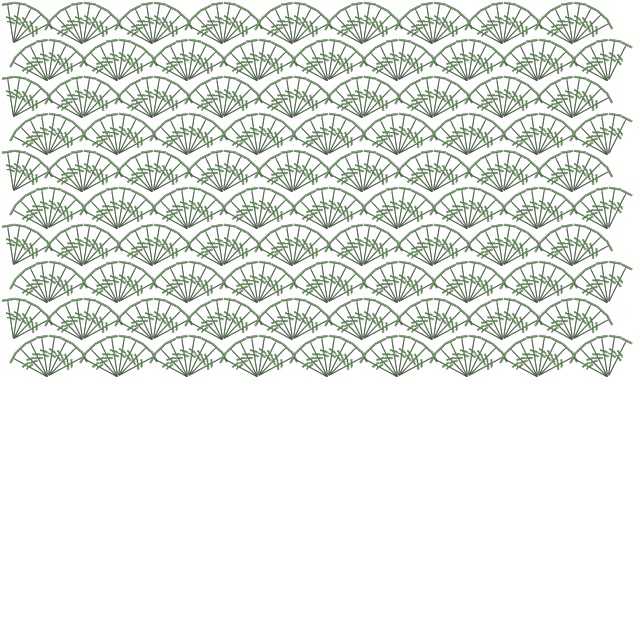fan: (8, 8, 49, 50), (49, 8, 90, 50), (78, 8, 119, 50), (119, 8, 160, 50), (148, 8, 189, 50), (189, 8, 230, 50), (218, 8, 259, 50), (259, 8, 300, 50), (288, 8, 329, 50), (329, 8, 370, 50), (358, 8, 399, 50), (399, 8, 440, 50), (428, 8, 469, 50), (469, 8, 510, 50), (498, 8, 539, 50), (539, 8, 580, 50), (568, 8, 609, 50), (14, 45, 55, 87), (43, 45, 84, 87), (84, 45, 125, 87), (113, 45, 154, 87), (154, 45, 195, 87), (183, 45, 224, 87), (224, 45, 265, 87), (253, 45, 294, 87), (294, 45, 335, 87), (323, 45, 364, 87), (364, 45, 405, 87), (393, 45, 434, 87), (434, 45, 475, 87), (463, 45, 504, 87), (504, 45, 545, 87), (533, 45, 574, 87), (574, 45, 615, 87), (8, 82, 49, 124), (49, 82, 90, 124), (78, 82, 119, 124), (119, 82, 160, 124), (148, 82, 189, 124), (189, 82, 230, 124), (218, 82, 259, 124), (259, 82, 300, 124), (288, 82, 329, 124), (329, 82, 370, 124), (358, 82, 399, 124), (399, 82, 440, 124), (428, 82, 469, 124), (469, 82, 510, 124), (498, 82, 539, 124), (539, 82, 580, 124), (568, 82, 609, 124), (14, 119, 55, 161), (43, 119, 84, 161), (84, 119, 125, 161), (113, 119, 154, 161), (154, 119, 195, 161), (183, 119, 224, 161), (224, 119, 265, 161), (253, 119, 294, 161), (294, 119, 335, 161), (323, 119, 364, 161), (364, 119, 405, 161), (393, 119, 434, 161), (434, 119, 475, 161), (463, 119, 504, 161), (504, 119, 545, 161), (533, 119, 574, 161), (574, 119, 615, 161), (8, 156, 49, 198), (49, 156, 90, 198), (78, 156, 119, 198), (119, 156, 160, 198), (148, 156, 189, 198), (189, 156, 230, 198), (218, 156, 259, 198), (259, 156, 300, 198), (288, 156, 329, 198), (329, 156, 370, 198), (358, 156, 399, 198), (399, 156, 440, 198), (428, 156, 469, 198), (469, 156, 510, 198), (498, 156, 539, 198), (539, 156, 580, 198), (568, 156, 609, 198), (14, 193, 55, 235), (43, 193, 84, 235), (84, 193, 125, 235), (113, 193, 154, 235), (154, 193, 195, 235), (183, 193, 224, 235), (224, 193, 265, 235), (253, 193, 294, 235), (294, 193, 335, 235), (323, 193, 364, 235), (364, 193, 405, 235), (393, 193, 434, 235), (434, 193, 475, 235), (463, 193, 504, 235), (504, 193, 545, 235), (533, 193, 574, 235), (574, 193, 615, 235), (8, 230, 49, 272), (49, 230, 90, 272), (78, 230, 119, 272), (119, 230, 160, 272), (148, 230, 189, 272), (189, 230, 230, 272), (218, 230, 259, 272), (259, 230, 300, 272), (288, 230, 329, 272), (329, 230, 370, 272), (358, 230, 399, 272), (399, 230, 440, 272), (428, 230, 469, 272), (469, 230, 510, 272), (498, 230, 539, 272), (539, 230, 580, 272), (568, 230, 609, 272), (14, 267, 55, 309), (43, 267, 84, 309), (84, 267, 125, 309), (113, 267, 154, 309), (154, 267, 195, 309), (183, 267, 224, 309), (224, 267, 265, 309), (253, 267, 294, 309), (294, 267, 335, 309), (323, 267, 364, 309), (364, 267, 405, 309), (393, 267, 434, 309), (434, 267, 475, 309), (463, 267, 504, 309), (504, 267, 545, 309), (533, 267, 574, 309), (574, 267, 615, 309), (8, 304, 49, 346), (49, 304, 90, 346), (78, 304, 119, 346), (119, 304, 160, 346), (148, 304, 189, 346), (189, 304, 230, 346), (218, 304, 259, 346), (259, 304, 300, 346), (288, 304, 329, 346), (329, 304, 370, 346), (358, 304, 399, 346), (399, 304, 440, 346), (428, 304, 469, 346), (469, 304, 510, 346), (498, 304, 539, 346), (539, 304, 580, 346), (568, 304, 609, 346), (14, 341, 55, 383), (43, 341, 84, 383), (84, 341, 125, 383), (113, 341, 154, 383), (154, 341, 195, 383), (183, 341, 224, 383), (224, 341, 265, 383), (253, 341, 294, 383), (294, 341, 335, 383), (323, 341, 364, 383), (364, 341, 405, 383), (393, 341, 434, 383), (434, 341, 475, 383), (463, 341, 504, 383), (504, 341, 545, 383), (533, 341, 574, 383), (574, 341, 615, 383), (10, 17, 55, 51), (43, 17, 88, 51), (80, 17, 125, 51), (113, 17, 158, 51), (150, 17, 195, 51), (183, 17, 228, 51), (220, 17, 265, 51), (253, 17, 298, 51), (290, 17, 335, 51), (323, 17, 368, 51), (360, 17, 405, 51), (393, 17, 438, 51), (430, 17, 475, 51), (463, 17, 508, 51), (500, 17, 545, 51), (533, 17, 578, 51), (570, 17, 615, 51), (8, 54, 53, 88), (45, 54, 90, 88), (78, 54, 123, 88), (115, 54, 160, 88), (148, 54, 193, 88), (185, 54, 230, 88), (218, 54, 263, 88), (255, 54, 300, 88), (288, 54, 333, 88), (325, 54, 370, 88), (358, 54, 403, 88), (395, 54, 440, 88), (428, 54, 473, 88), (465, 54, 510, 88), (498, 54, 543, 88), (535, 54, 580, 88), (568, 54, 613, 88), (10, 91, 55, 125), (43, 91, 88, 125), (80, 91, 125, 125), (113, 91, 158, 125), (150, 91, 195, 125), (183, 91, 228, 125), (220, 91, 265, 125), (253, 91, 298, 125), (290, 91, 335, 125), (323, 91, 368, 125), (360, 91, 405, 125), (393, 91, 438, 125), (430, 91, 475, 125), (463, 91, 508, 125), (500, 91, 545, 125), (533, 91, 578, 125), (570, 91, 615, 125), (8, 128, 53, 162), (45, 128, 90, 162), (78, 128, 123, 162), (115, 128, 160, 162), (148, 128, 193, 162), (185, 128, 230, 162), (218, 128, 263, 162), (255, 128, 300, 162), (288, 128, 333, 162), (325, 128, 370, 162), (358, 128, 403, 162), (395, 128, 440, 162), (428, 128, 473, 162), (465, 128, 510, 162), (498, 128, 543, 162), (535, 128, 580, 162), (568, 128, 613, 162), (10, 165, 55, 199), (43, 165, 88, 199), (80, 165, 125, 199), (113, 165, 158, 199), (150, 165, 195, 199), (183, 165, 228, 199), (220, 165, 265, 199), (253, 165, 298, 199), (290, 165, 335, 199), (323, 165, 368, 199), (360, 165, 405, 199), (393, 165, 438, 199), (430, 165, 475, 199), (463, 165, 508, 199), (500, 165, 545, 199), (533, 165, 578, 199), (570, 165, 615, 199), (8, 202, 53, 236), (45, 202, 90, 236), (78, 202, 123, 236), (115, 202, 160, 236), (148, 202, 193, 236), (185, 202, 230, 236), (218, 202, 263, 236), (255, 202, 300, 236), (288, 202, 333, 236), (325, 202, 370, 236), (358, 202, 403, 236), (395, 202, 440, 236), (428, 202, 473, 236), (465, 202, 510, 236), (498, 202, 543, 236), (535, 202, 580, 236), (568, 202, 613, 236), (10, 239, 55, 273), (43, 239, 88, 273), (80, 239, 125, 273), (113, 239, 158, 273), (150, 239, 195, 273), (183, 239, 228, 273), (220, 239, 265, 273), (253, 239, 298, 273), (290, 239, 335, 273), (323, 239, 368, 273), (360, 239, 405, 273), (393, 239, 438, 273), (430, 239, 475, 273), (463, 239, 508, 273), (500, 239, 545, 273), (533, 239, 578, 273), (570, 239, 615, 273), (8, 276, 53, 310), (45, 276, 90, 310), (78, 276, 123, 310), (115, 276, 160, 310), (148, 276, 193, 310), (185, 276, 230, 310), (218, 276, 263, 310), (255, 276, 300, 310), (288, 276, 333, 310), (325, 276, 370, 310), (358, 276, 403, 310), (395, 276, 440, 310), (428, 276, 473, 310), (465, 276, 510, 310), (498, 276, 543, 310), (535, 276, 580, 310), (568, 276, 613, 310), (10, 313, 55, 347), (43, 313, 88, 347), (80, 313, 125, 347), (113, 313, 158, 347), (150, 313, 195, 347), (183, 313, 228, 347), (220, 313, 265, 347), (253, 313, 298, 347), (290, 313, 335, 347), (323, 313, 368, 347), (360, 313, 405, 347), (393, 313, 438, 347), (430, 313, 475, 347), (463, 313, 508, 347), (500, 313, 545, 347), (533, 313, 578, 347), (570, 313, 615, 347), (8, 350, 53, 384), (45, 350, 90, 384), (78, 350, 123, 384), (115, 350, 160, 384), (148, 350, 193, 384), (185, 350, 230, 384), (218, 350, 263, 384), (255, 350, 300, 384), (288, 350, 333, 384), (325, 350, 370, 384), (358, 350, 403, 384), (395, 350, 440, 384), (428, 350, 473, 384), (465, 350, 510, 384), (498, 350, 543, 384), (535, 350, 580, 384), (568, 350, 613, 384), (7, 3, 40, 48), (58, 3, 91, 48), (77, 3, 110, 48), (128, 3, 161, 48), (147, 3, 180, 48), (198, 3, 231, 48), (217, 3, 250, 48), (268, 3, 301, 48), (287, 3, 320, 48), (338, 3, 371, 48), (357, 3, 390, 48), (408, 3, 441, 48), (427, 3, 460, 48), (478, 3, 511, 48), (497, 3, 530, 48), (548, 3, 581, 48), (567, 3, 600, 48), (23, 40, 56, 85), (42, 40, 75, 85), (93, 40, 126, 85), (112, 40, 145, 85), (163, 40, 196, 85), (182, 40, 215, 85), (233, 40, 266, 85), (252, 40, 285, 85), (303, 40, 336, 85), (322, 40, 355, 85), (373, 40, 406, 85), (392, 40, 425, 85), (443, 40, 476, 85), (462, 40, 495, 85), (513, 40, 546, 85), (532, 40, 565, 85), (583, 40, 616, 85), (602, 40, 635, 85), (7, 77, 40, 122), (58, 77, 91, 122), (77, 77, 110, 122), (128, 77, 161, 122), (147, 77, 180, 122), (198, 77, 231, 122), (217, 77, 250, 122), (268, 77, 301, 122), (287, 77, 320, 122), (338, 77, 371, 122), (357, 77, 390, 122), (408, 77, 441, 122), (427, 77, 460, 122), (478, 77, 511, 122), (497, 77, 530, 122), (548, 77, 581, 122), (567, 77, 600, 122), (23, 114, 56, 159), (42, 114, 75, 159), (93, 114, 126, 159), (112, 114, 145, 159), (163, 114, 196, 159), (182, 114, 215, 159), (233, 114, 266, 159), (252, 114, 285, 159), (303, 114, 336, 159), (322, 114, 355, 159), (373, 114, 406, 159), (392, 114, 425, 159), (443, 114, 476, 159), (462, 114, 495, 159), (513, 114, 546, 159), (532, 114, 565, 159), (583, 114, 616, 159), (602, 114, 635, 159), (7, 151, 40, 196), (58, 151, 91, 196), (77, 151, 110, 196), (128, 151, 161, 196), (147, 151, 180, 196), (198, 151, 231, 196), (217, 151, 250, 196), (268, 151, 301, 196), (287, 151, 320, 196), (338, 151, 371, 196), (357, 151, 390, 196), (408, 151, 441, 196), (427, 151, 460, 196), (478, 151, 511, 196), (497, 151, 530, 196), (548, 151, 581, 196), (567, 151, 600, 196), (23, 188, 56, 233), (42, 188, 75, 233), (93, 188, 126, 233), (112, 188, 145, 233), (163, 188, 196, 233), (182, 188, 215, 233), (233, 188, 266, 233), (252, 188, 285, 233), (303, 188, 336, 233), (322, 188, 355, 233), (373, 188, 406, 233), (392, 188, 425, 233), (443, 188, 476, 233), (462, 188, 495, 233), (513, 188, 546, 233), (532, 188, 565, 233), (583, 188, 616, 233), (602, 188, 635, 233), (7, 225, 40, 270), (58, 225, 91, 270), (77, 225, 110, 270), (128, 225, 161, 270), (147, 225, 180, 270), (198, 225, 231, 270), (217, 225, 250, 270), (268, 225, 301, 270), (287, 225, 320, 270), (338, 225, 371, 270), (357, 225, 390, 270), (408, 225, 441, 270), (427, 225, 460, 270), (478, 225, 511, 270), (497, 225, 530, 270), (548, 225, 581, 270), (567, 225, 600, 270), (23, 262, 56, 307), (42, 262, 75, 307), (93, 262, 126, 307), (112, 262, 145, 307), (163, 262, 196, 307), (182, 262, 215, 307), (233, 262, 266, 307), (252, 262, 285, 307), (303, 262, 336, 307), (322, 262, 355, 307), (373, 262, 406, 307), (392, 262, 425, 307), (443, 262, 476, 307), (462, 262, 495, 307), (513, 262, 546, 307), (532, 262, 565, 307), (583, 262, 616, 307), (602, 262, 635, 307), (7, 299, 40, 344), (58, 299, 91, 344), (77, 299, 110, 344), (128, 299, 161, 344), (147, 299, 180, 344), (198, 299, 231, 344), (217, 299, 250, 344), (268, 299, 301, 344), (287, 299, 320, 344), (338, 299, 371, 344), (357, 299, 390, 344), (408, 299, 441, 344), (427, 299, 460, 344), (478, 299, 511, 344), (497, 299, 530, 344), (548, 299, 581, 344), (567, 299, 600, 344), (23, 336, 56, 381), (42, 336, 75, 381), (93, 336, 126, 381), (112, 336, 145, 381), (163, 336, 196, 381), (182, 336, 215, 381), (233, 336, 266, 381), (252, 336, 285, 381), (303, 336, 336, 381), (322, 336, 355, 381), (373, 336, 406, 381), (392, 336, 425, 381), (443, 336, 476, 381), (462, 336, 495, 381), (513, 336, 546, 381), (532, 336, 565, 381), (583, 336, 616, 381), (602, 336, 635, 381), (0, 1, 22, 45), (6, 1, 28, 45), (70, 1, 92, 45), (76, 1, 98, 45), (140, 1, 162, 45), (146, 1, 168, 45), (210, 1, 232, 45), (216, 1, 238, 45), (280, 1, 302, 45), (286, 1, 308, 45), (350, 1, 372, 45), (356, 1, 378, 45), (420, 1, 442, 45), (426, 1, 448, 45), (490, 1, 512, 45), (496, 1, 518, 45), (560, 1, 582, 45), (566, 1, 588, 45), (35, 38, 57, 82), (41, 38, 63, 82), (105, 38, 127, 82), (111, 38, 133, 82), (175, 38, 197, 82), (181, 38, 203, 82), (245, 38, 267, 82), (251, 38, 273, 82), (315, 38, 337, 82), (321, 38, 343, 82), (385, 38, 407, 82), (391, 38, 413, 82), (455, 38, 477, 82), (461, 38, 483, 82), (525, 38, 547, 82), (531, 38, 553, 82), (595, 38, 617, 82), (601, 38, 623, 82), (0, 75, 22, 119), (6, 75, 28, 119), (70, 75, 92, 119), (76, 75, 98, 119), (140, 75, 162, 119), (146, 75, 168, 119), (210, 75, 232, 119), (216, 75, 238, 119), (280, 75, 302, 119), (286, 75, 308, 119), (350, 75, 372, 119), (356, 75, 378, 119), (420, 75, 442, 119), (426, 75, 448, 119), (490, 75, 512, 119), (496, 75, 518, 119), (560, 75, 582, 119), (566, 75, 588, 119), (35, 112, 57, 156), (41, 112, 63, 156), (105, 112, 127, 156), (111, 112, 133, 156), (175, 112, 197, 156), (181, 112, 203, 156), (245, 112, 267, 156), (251, 112, 273, 156), (315, 112, 337, 156), (321, 112, 343, 156), (385, 112, 407, 156), (391, 112, 413, 156), (455, 112, 477, 156), (461, 112, 483, 156), (525, 112, 547, 156), (531, 112, 553, 156), (595, 112, 617, 156), (601, 112, 623, 156), (0, 149, 22, 193), (6, 149, 28, 193), (70, 149, 92, 193), (76, 149, 98, 193), (140, 149, 162, 193), (146, 149, 168, 193), (210, 149, 232, 193), (216, 149, 238, 193), (280, 149, 302, 193), (286, 149, 308, 193), (350, 149, 372, 193), (356, 149, 378, 193), (420, 149, 442, 193), (426, 149, 448, 193), (490, 149, 512, 193), (496, 149, 518, 193), (560, 149, 582, 193), (566, 149, 588, 193), (35, 186, 57, 230), (41, 186, 63, 230), (105, 186, 127, 230), (111, 186, 133, 230), (175, 186, 197, 230), (181, 186, 203, 230), (245, 186, 267, 230), (251, 186, 273, 230), (315, 186, 337, 230), (321, 186, 343, 230), (385, 186, 407, 230), (391, 186, 413, 230), (455, 186, 477, 230), (461, 186, 483, 230), (525, 186, 547, 230), (531, 186, 553, 230), (595, 186, 617, 230), (601, 186, 623, 230), (0, 223, 22, 267), (6, 223, 28, 267), (70, 223, 92, 267), (76, 223, 98, 267), (140, 223, 162, 267), (146, 223, 168, 267), (210, 223, 232, 267), (216, 223, 238, 267), (280, 223, 302, 267), (286, 223, 308, 267), (350, 223, 372, 267), (356, 223, 378, 267), (420, 223, 442, 267), (426, 223, 448, 267), (490, 223, 512, 267), (496, 223, 518, 267), (560, 223, 582, 267), (566, 223, 588, 267), (35, 260, 57, 304), (41, 260, 63, 304), (105, 260, 127, 304), (111, 260, 133, 304), (175, 260, 197, 304), (181, 260, 203, 304), (245, 260, 267, 304), (251, 260, 273, 304), (315, 260, 337, 304), (321, 260, 343, 304), (385, 260, 407, 304), (391, 260, 413, 304), (455, 260, 477, 304), (461, 260, 483, 304), (525, 260, 547, 304), (531, 260, 553, 304), (595, 260, 617, 304), (601, 260, 623, 304), (0, 297, 22, 341), (6, 297, 28, 341), (70, 297, 92, 341), (76, 297, 98, 341), (140, 297, 162, 341), (146, 297, 168, 341), (210, 297, 232, 341), (216, 297, 238, 341), (280, 297, 302, 341), (286, 297, 308, 341), (350, 297, 372, 341), (356, 297, 378, 341), (420, 297, 442, 341), (426, 297, 448, 341), (490, 297, 512, 341), (496, 297, 518, 341), (560, 297, 582, 341), (566, 297, 588, 341), (35, 334, 57, 378), (41, 334, 63, 378), (105, 334, 127, 378), (111, 334, 133, 378), (175, 334, 197, 378), (181, 334, 203, 378), (245, 334, 267, 378), (251, 334, 273, 378), (315, 334, 337, 378), (321, 334, 343, 378), (385, 334, 407, 378), (391, 334, 413, 378), (455, 334, 477, 378), (461, 334, 483, 378), (525, 334, 547, 378), (531, 334, 553, 378), (595, 334, 617, 378), (601, 334, 623, 378)
